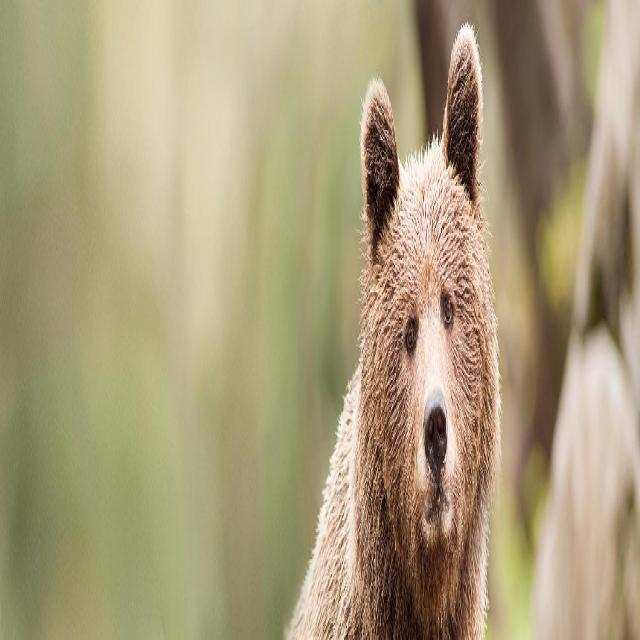Bear: (281, 24, 501, 640)
